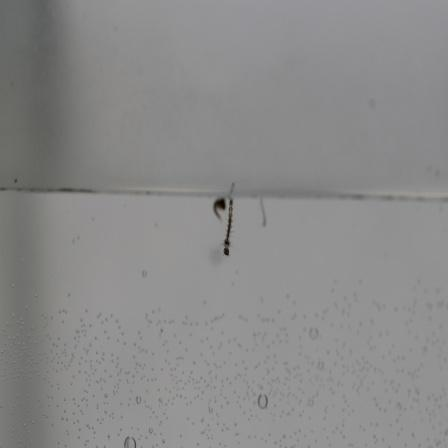Jentik-Nyamuk: (210, 192, 237, 261)
